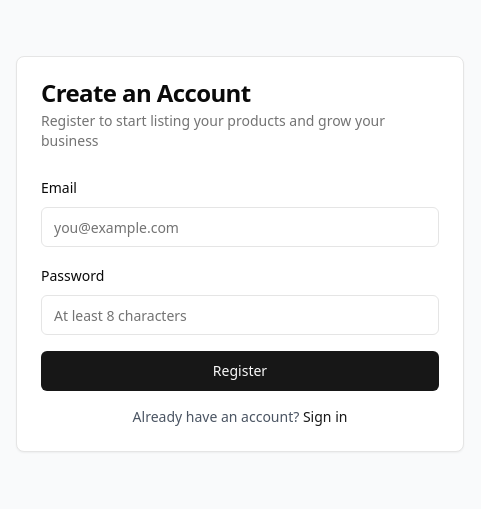
Test: RegisterPage › should handle auto-login failure after successful registration
Step 1. Type "test@example.com" into the field labelled "Email" → (240, 227), box [41,207,439,247]
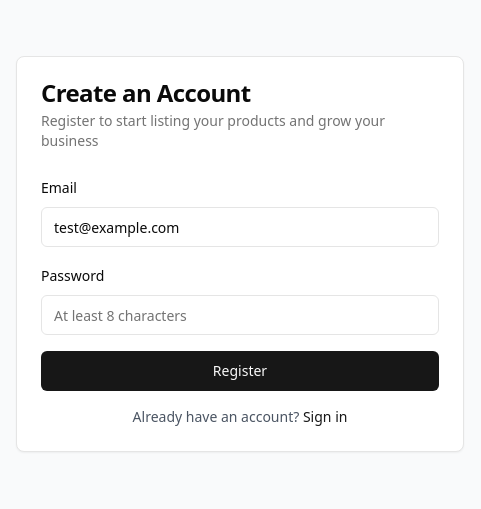
Step 2. Type "password123" into the password field labelled "Password" → (240, 315), box [41,295,439,335]
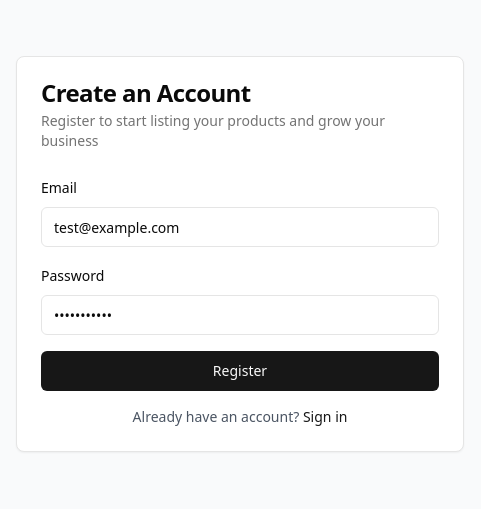
Step 3. Click the button "Register" → (240, 371), box [41,351,439,391]
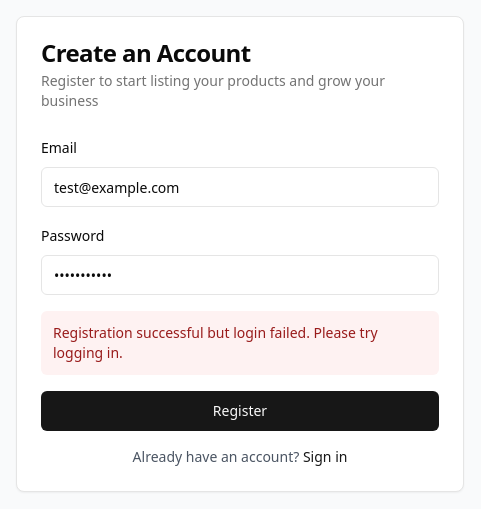
Expected: the text "Registration successful but login failed. Please try logging in." is shown, [41,311,439,375]
